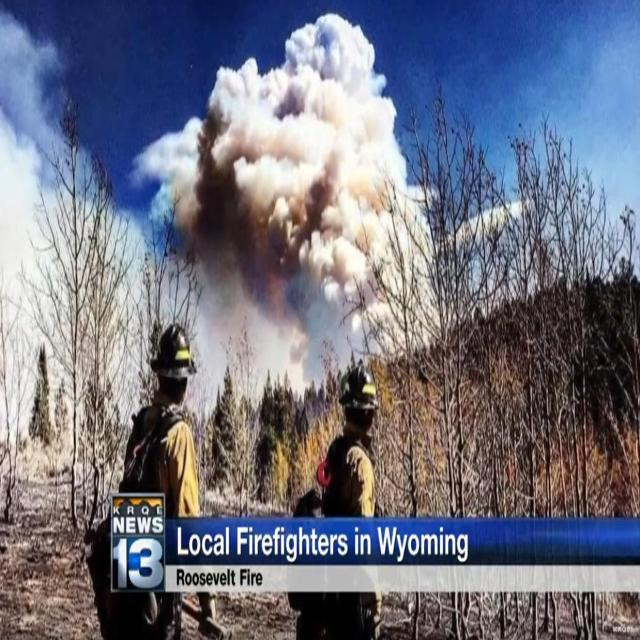Smoke: (124, 17, 449, 381)
